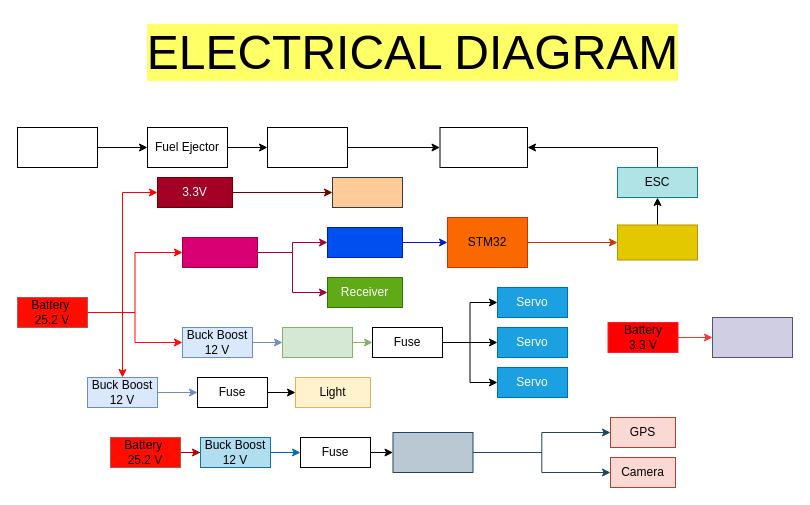
Image size: 810x505. Some labels were removed from this diagram. The centre of each missing label's shape, as x and y in pixels:
5V: (220,252)
Engine: (307,147)
Fuel Tank: (57,147)
LoRa: (367,192)
Mini PC: (432,452)
PCB Emergency: (657,242)
Proppeler: (483,147)
Transmitter: (752,337)
UBEC 7.4 V: (317,342)
Voltage Logic Switch: (364,242)
